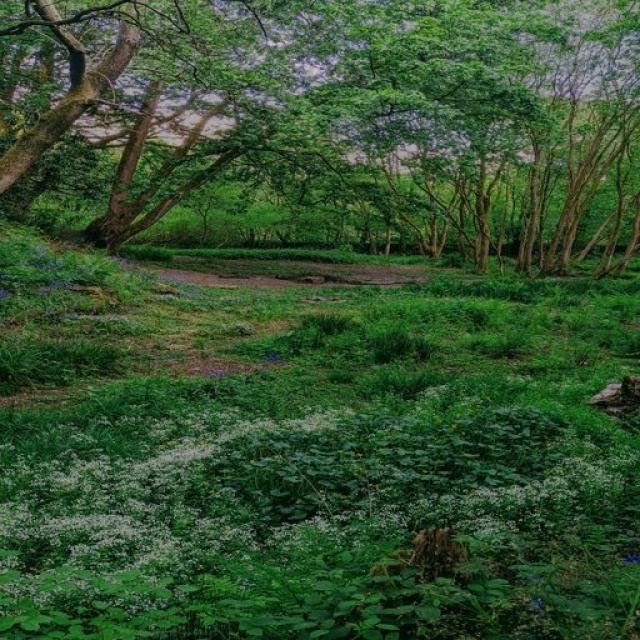watermark: (234, 24, 405, 96)
